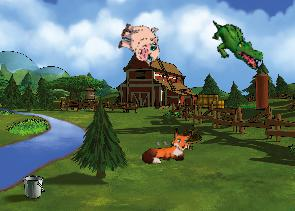crocodile: (202, 18, 270, 71)
fox: (140, 127, 194, 165)
pig: (114, 18, 165, 67)
